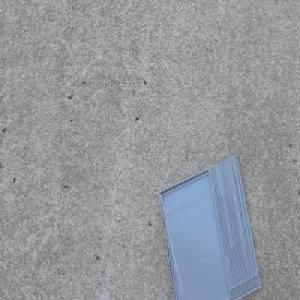PlasticPart: (156, 151, 261, 300)
